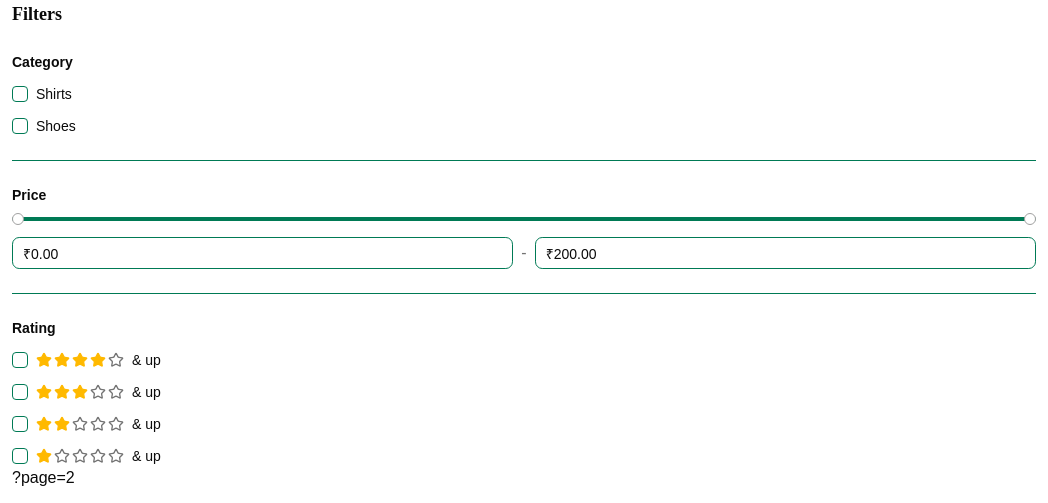
ProductFilters › checking a category writes ?category=<id> and resets ?page=
Click the checkbox named "Shoes" next to "Shoes": (20, 126) [12,118,28,134]
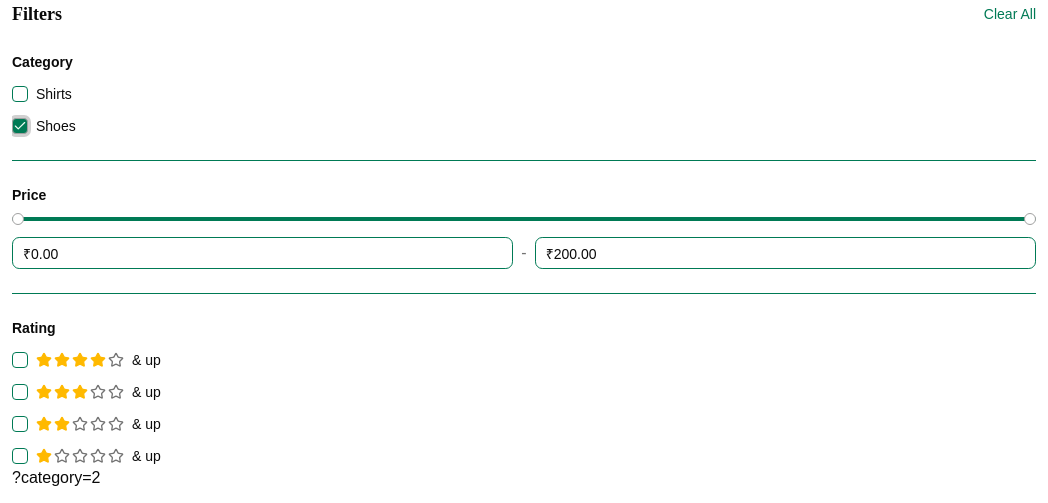
expect the text with test id "search-params-probe" shows "category=2": met, box [12,469,100,486]
expect the text with test id "search-params-probe" no longer shows "page=2": met, box [12,469,100,486]
